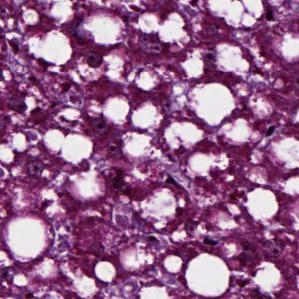steatosis: (185, 249, 234, 293), (188, 82, 236, 124)
